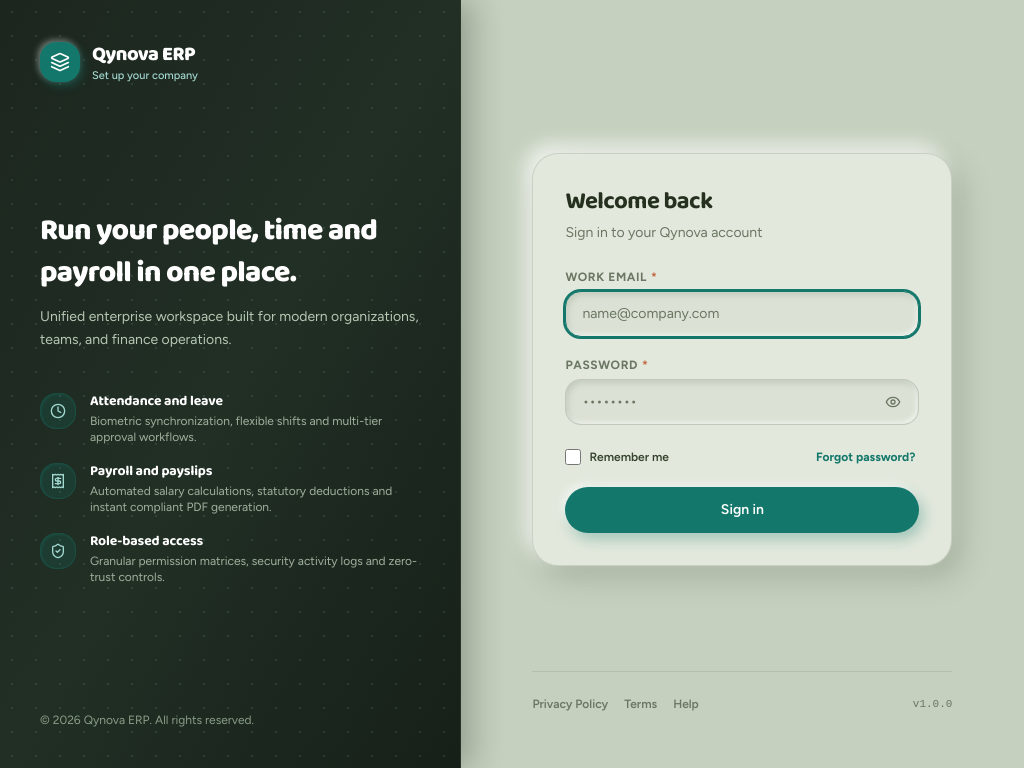
Test: Qynova ERP - Enterprise Login Experience Suite › 4. Error States & Inline Alerts › shows "Too many attempts" with countdown timer when locked out
Type "locked@qynova.com" into the field labelled "Work email *". click: (742, 314)
box: [565,291,919,337]
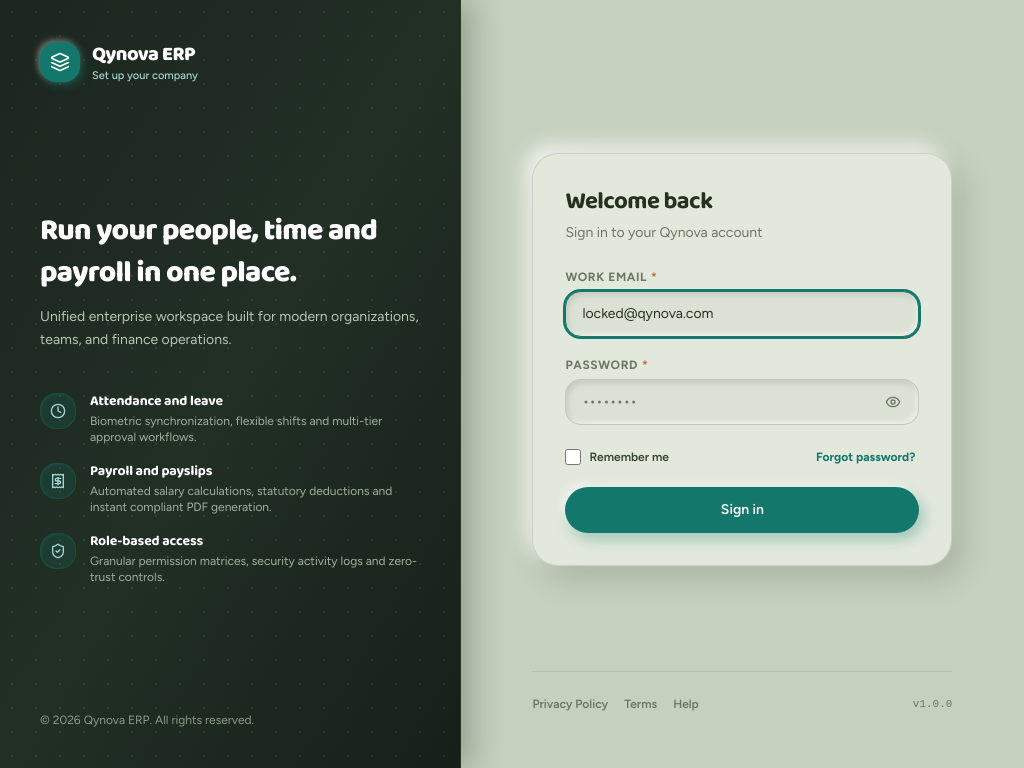
Type "Pass123!" into the password field labelled "Password *". click: (742, 402)
box: [565,379,919,425]
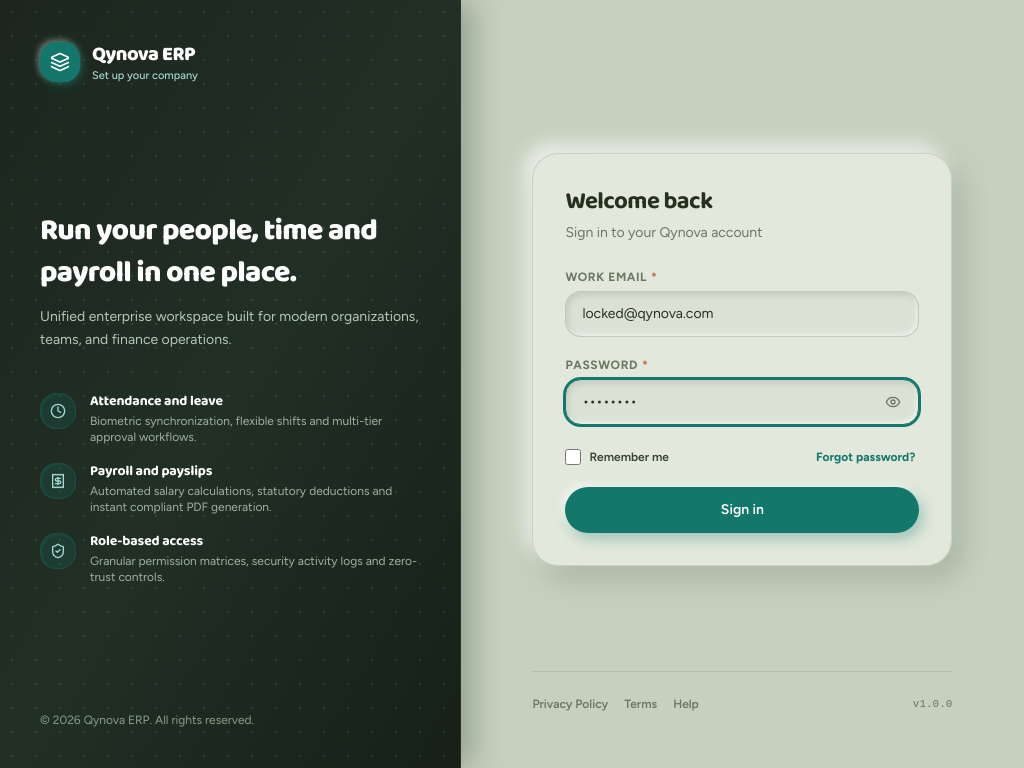
Click the button "Sign in". click: (742, 510)
box: [565,487,919,533]
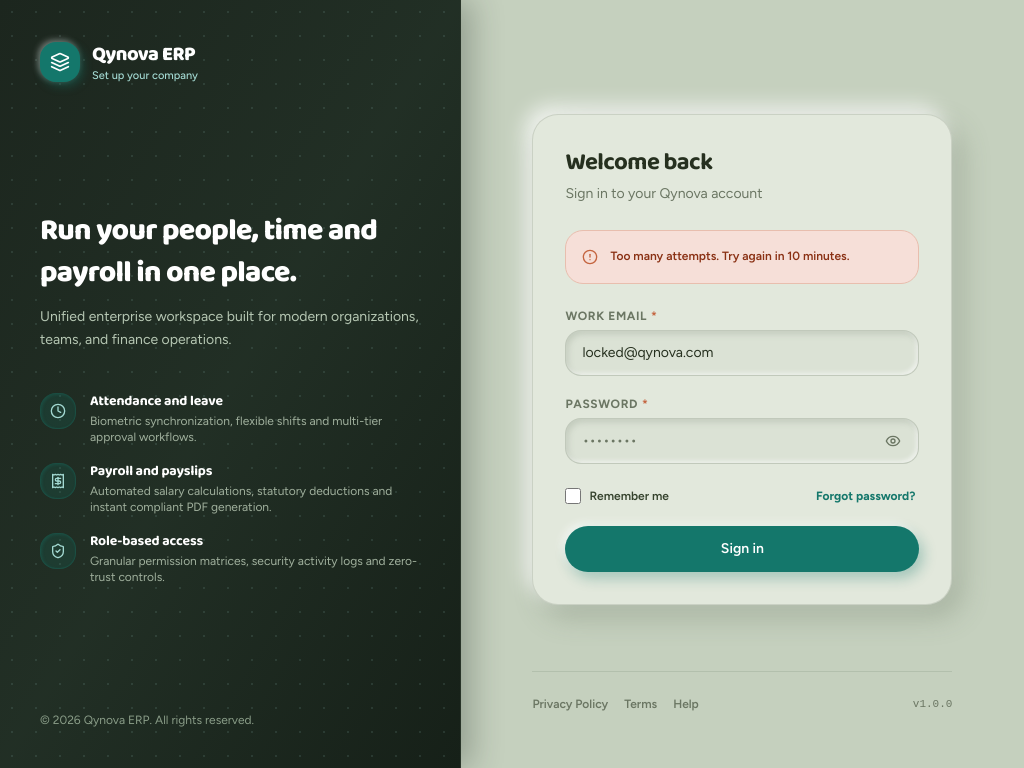
Expected: the message reads "Too many attempts. Try again in 10 minutes.", [610,249,850,263]
